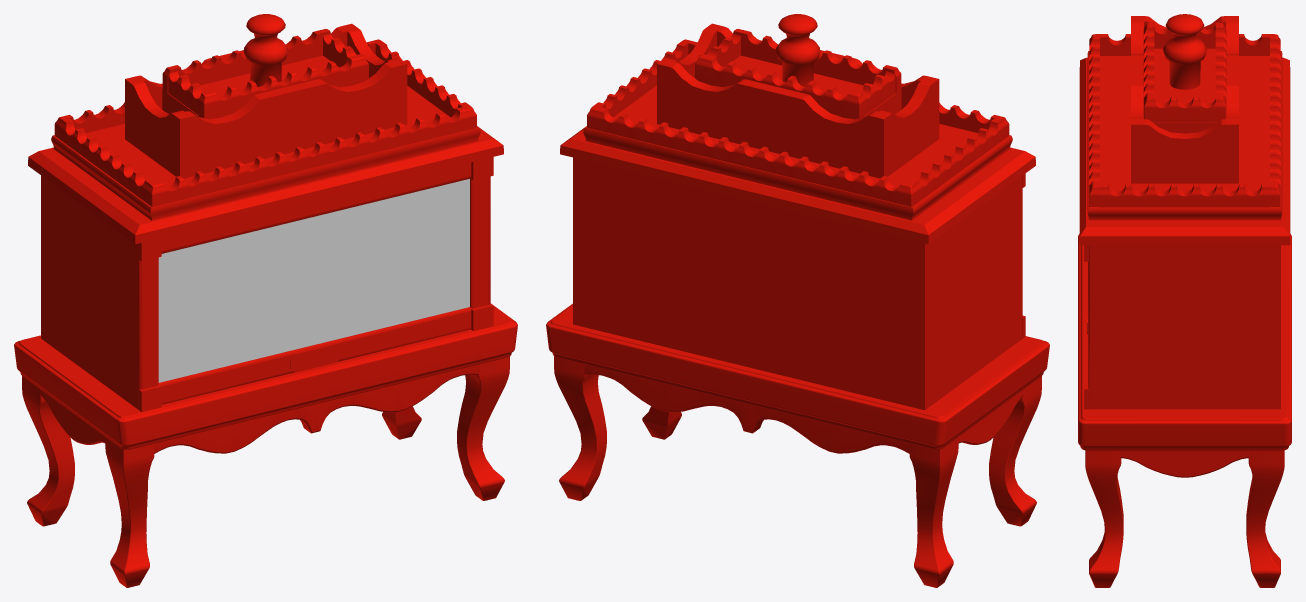
File: SM_Skull_Table_01a.fbx
The picture shows the model from 3 angles, left to right: view 1: azimuth 30°, elevation 25°; view 2: azimuth 150°, elevation 25°; view 3: azimuth 270°, elevation 25°; orthographic projection. The views are drawn at different scales.
Parts seen in each view (by area): view 1: Cabinet, Glass; view 2: Cabinet; view 3: Cabinet.
Boxes of the visible parts, x1,y1,x2,y2 form: Cabinet: [14, 14, 517, 587]; Glass: [158, 179, 469, 382]; Cabinet: [546, 14, 1049, 587]; Cabinet: [1078, 14, 1291, 587].
Bounding box in the file's own units: 109 × 128 × 51.61.
